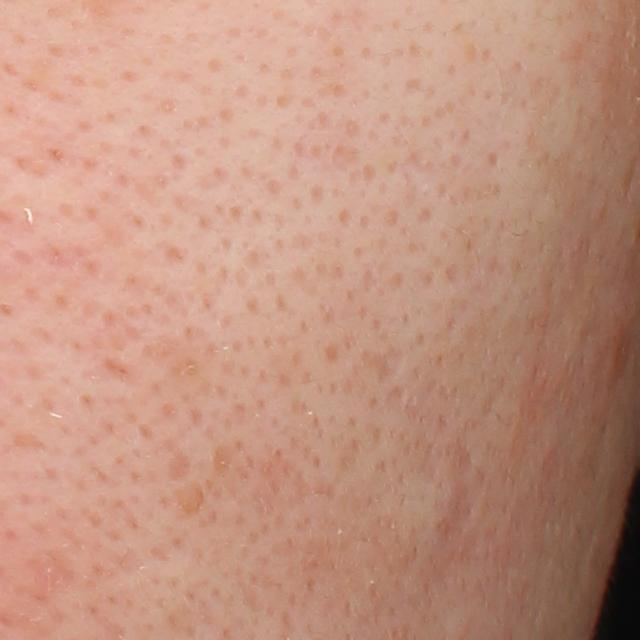atrophic_scar: (434, 436, 479, 561), (358, 344, 404, 385), (165, 446, 196, 484), (177, 481, 207, 516)
